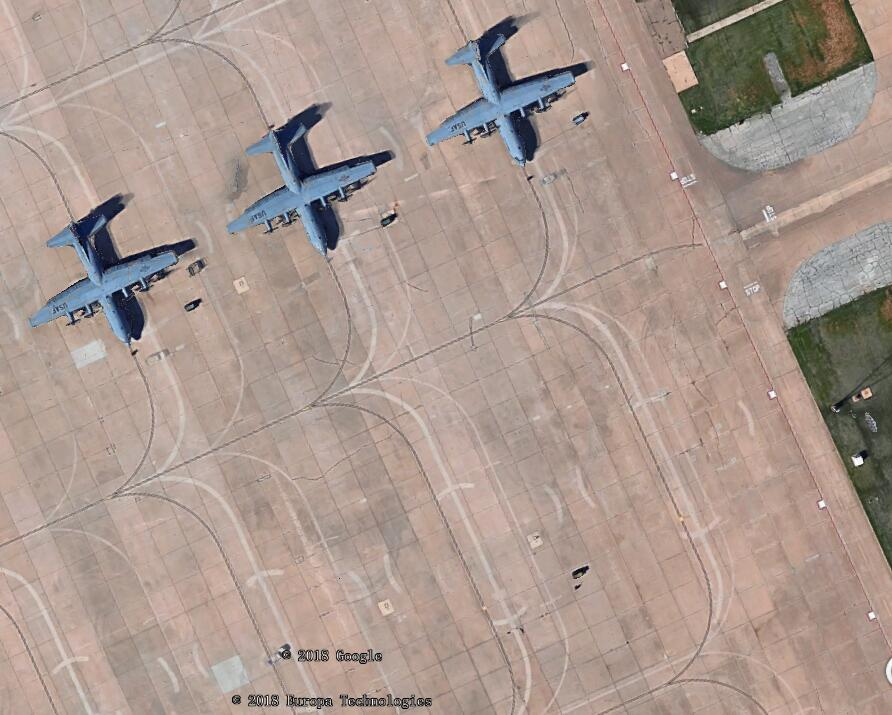A2: (418, 15, 583, 174), (224, 100, 384, 261), (25, 190, 183, 350)
